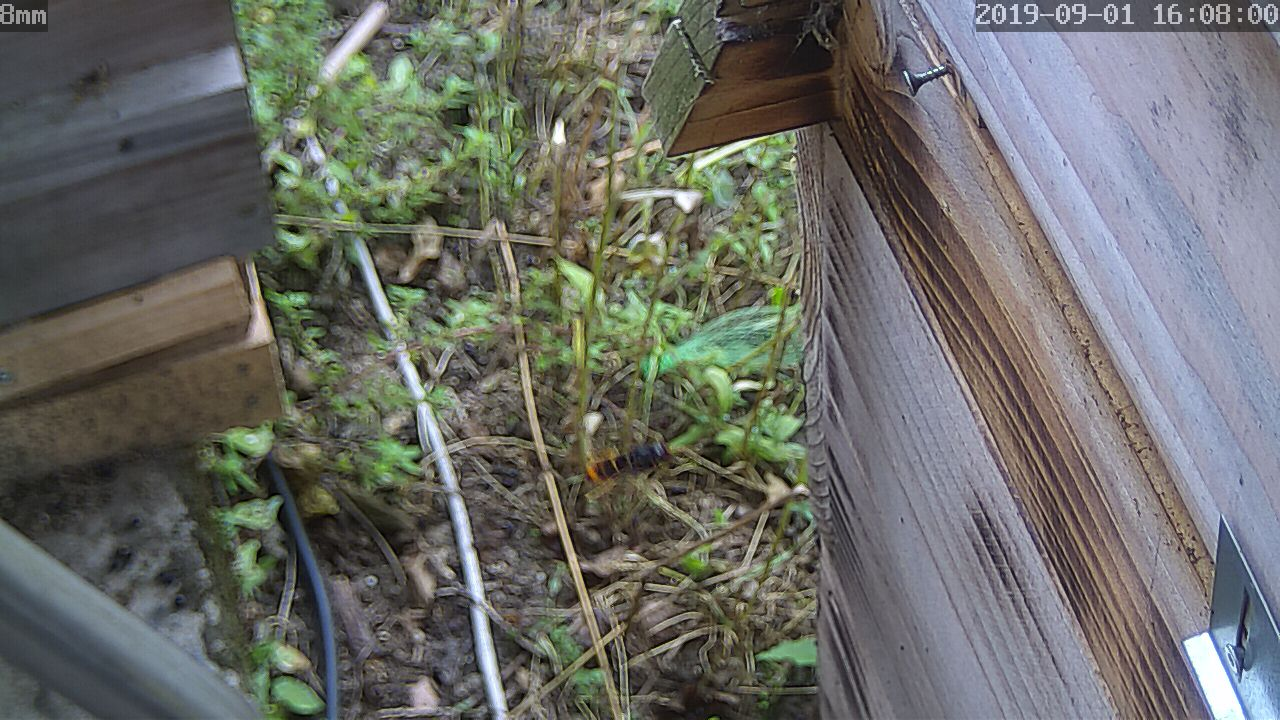hornet: (581, 437, 674, 496)
